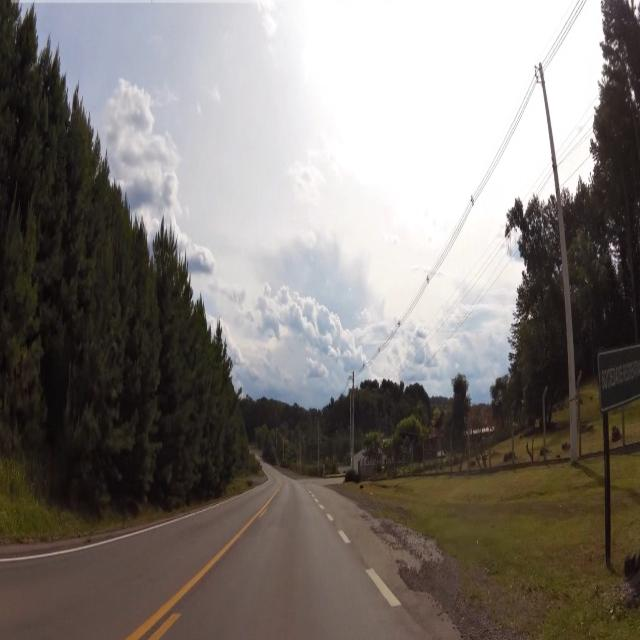I-4: (598, 352, 640, 393)
